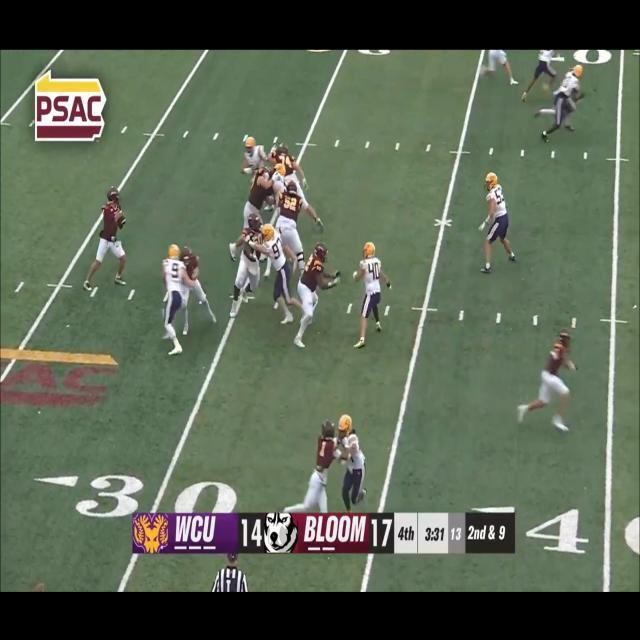football: (117, 210, 128, 228)
